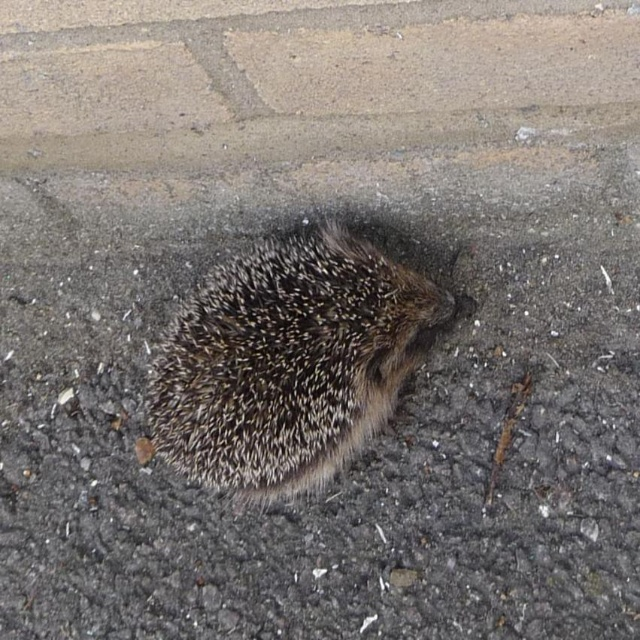Hedgehog: (136, 212, 478, 519)
